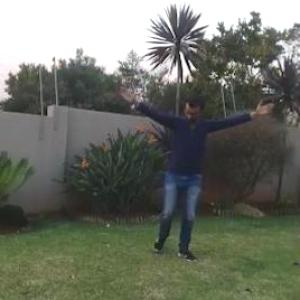takeoff: (124, 77, 262, 277)
